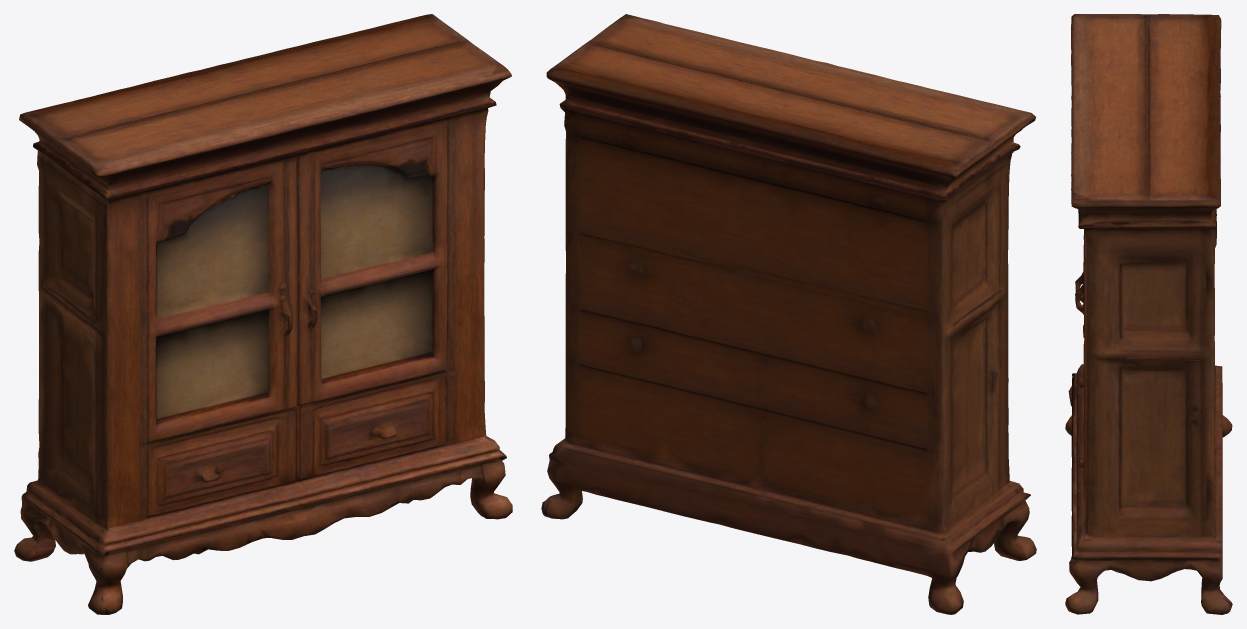
The model's file is Meshy_Model_20250604_202704.glb.
3 renders of one model, left to right at view 1: azimuth 30°, elevation 25°; view 2: azimuth 150°, elevation 25°; view 3: azimuth 270°, elevation 25°, orthographic. The views are drawn at different scales.
Bounding box in the file's own units: 1.94 × 1.96 × 0.7156.
Materials: 1 (1 with a texture image).
